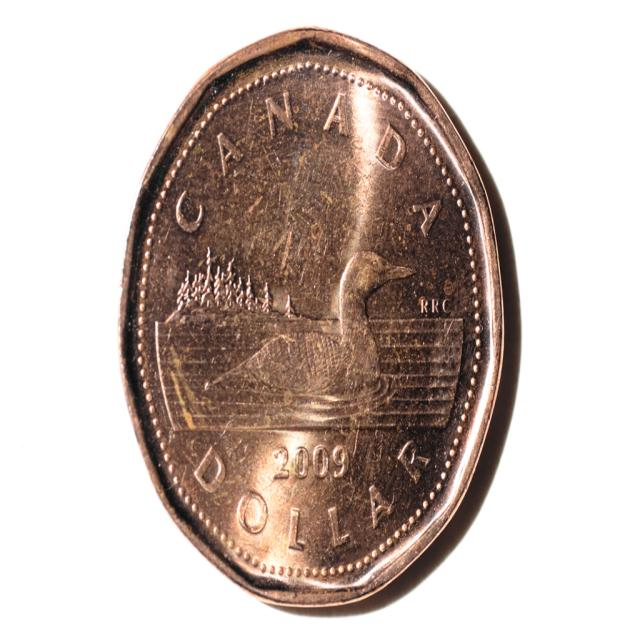Coin: (115, 18, 509, 606)
